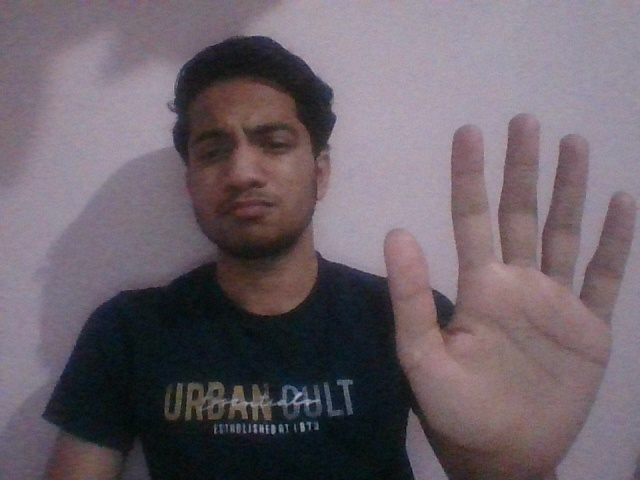Hello: (379, 110, 635, 477)
